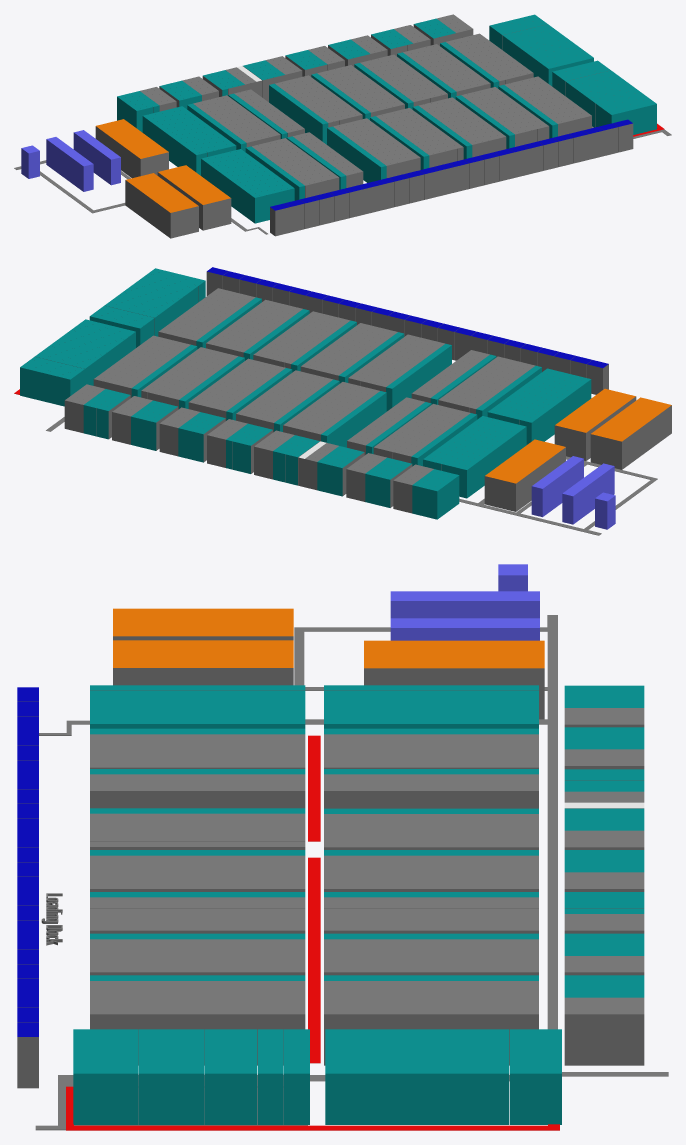
The model's file is boxmodal.gltf.
The picture shows the model from 3 angles, top to bottom: view 1: azimuth 30°, elevation 25°; view 2: azimuth 150°, elevation 25°; view 3: azimuth 270°, elevation 25°; orthographic projection. The views are drawn at different scales.
Parts seen in each view (by area): view 1: root; view 2: root; view 3: root.
Part boxes in pixels (bbox=[...]): root: bbox=[14, 14, 671, 238]; root: bbox=[14, 267, 671, 535]; root: bbox=[17, 564, 668, 1130].
Bounding box in the file's own units: 2.16 × 0.1 × 1.15.
